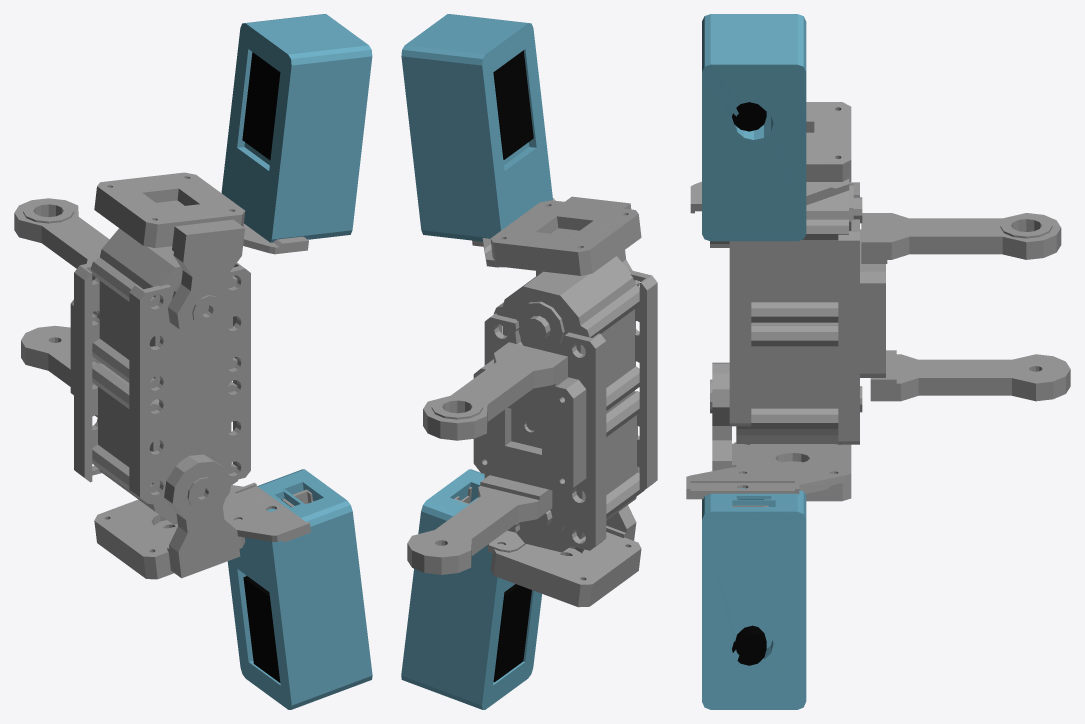
Rendered from head-neck-p.glb.
The picture shows the model from 3 angles, left to right: view 1: azimuth 30°, elevation 25°; view 2: azimuth 150°, elevation 25°; view 3: azimuth 270°, elevation 25°; orthographic projection.
Size of the model in its own units: 0.0599 by 0.1693 by 0.0884.
